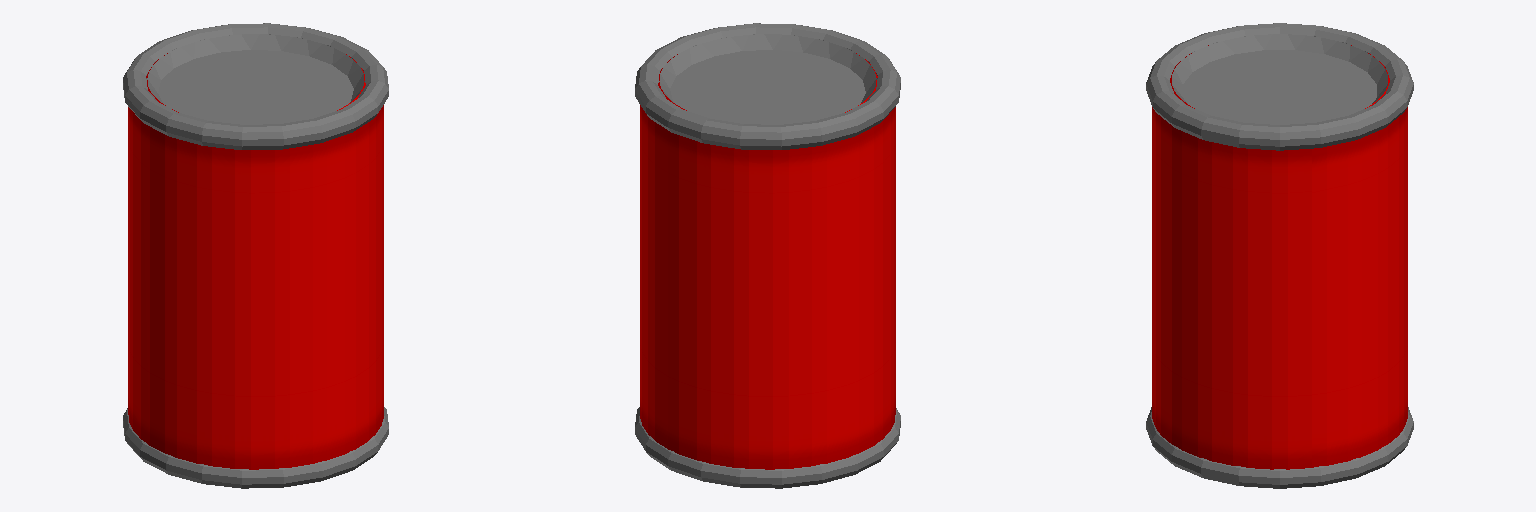
3 views of the same model, side by side, from view 1: azimuth 30°, elevation 25°; view 2: azimuth 150°, elevation 25°; view 3: azimuth 270°, elevation 25° (orthographic).
Visible parts, largest first — view 1: potion:pTorus3; view 2: potion:pTorus3; view 3: potion:pTorus3.
Part boxes in pixels (bbox=[...]): potion:pTorus3: bbox=[123, 23, 388, 488]; potion:pTorus3: bbox=[635, 23, 900, 488]; potion:pTorus3: bbox=[1146, 23, 1413, 488].
Size of the model in its own units: 1.54 by 2.29 by 1.54.
Materials: 1 (1 with a texture image).